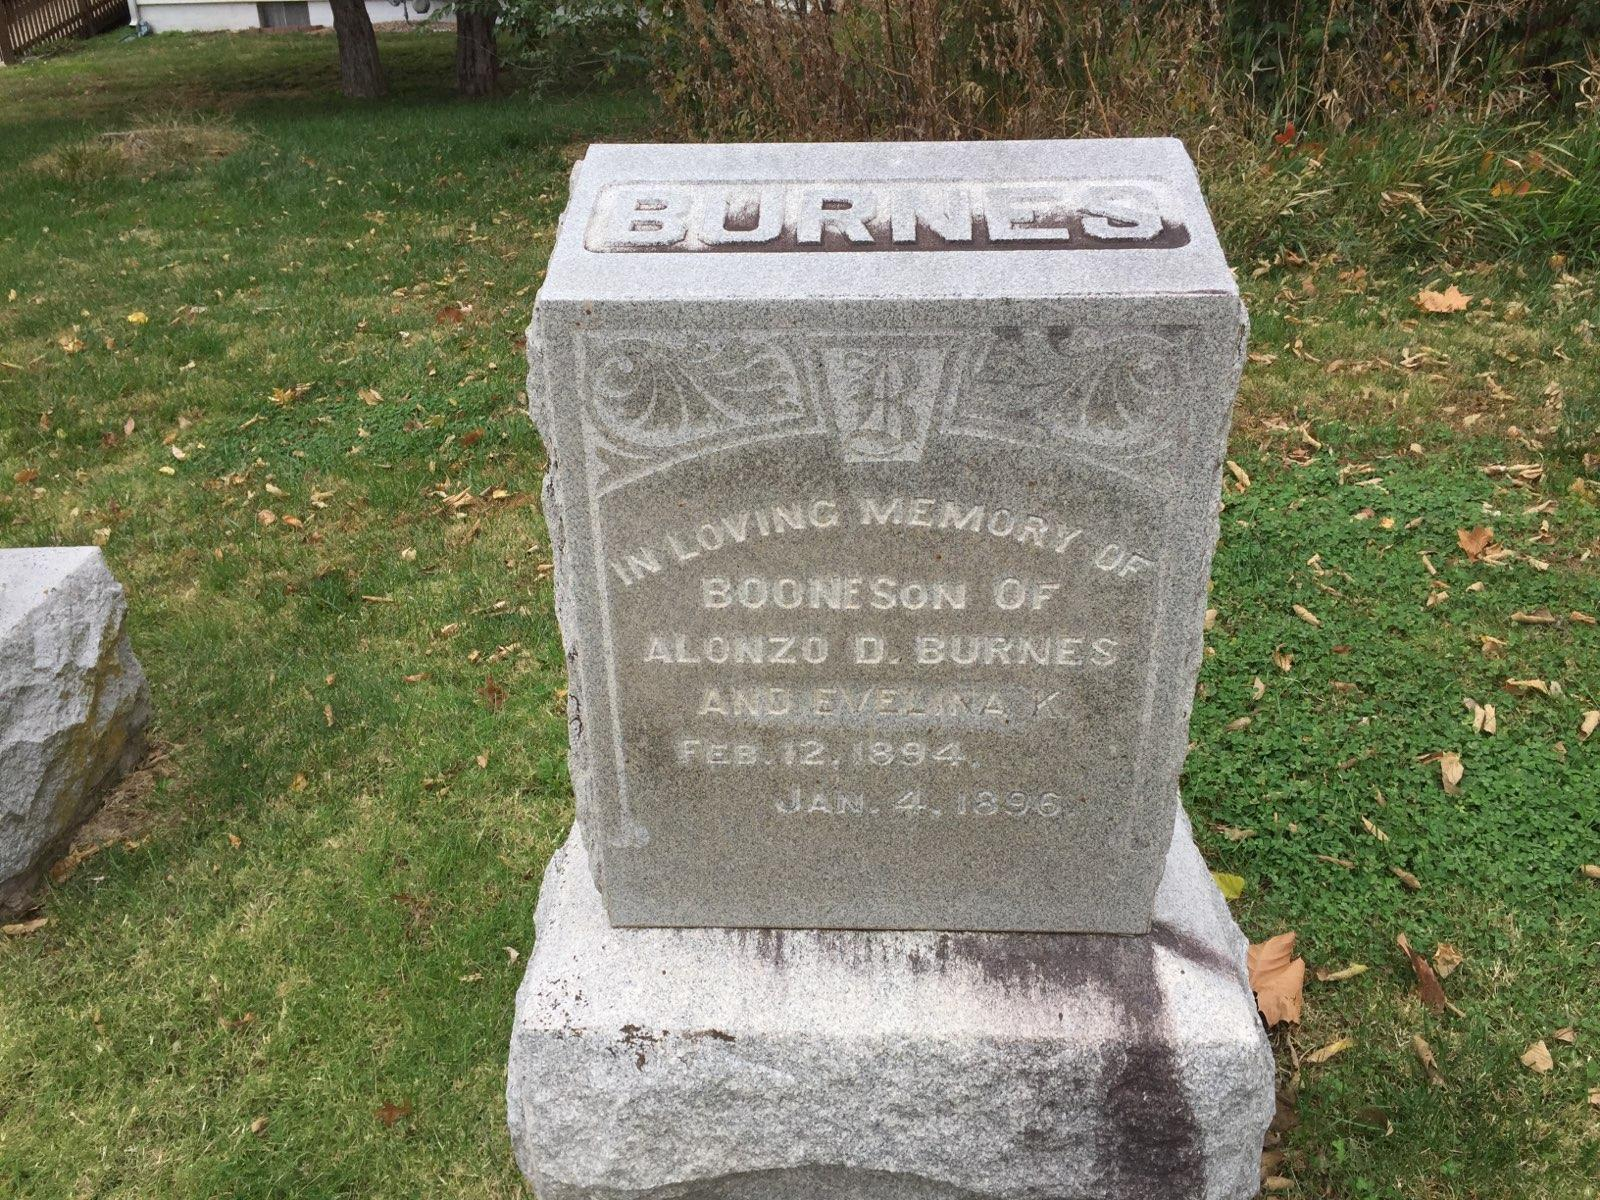upright: (467, 95, 1294, 1185)
